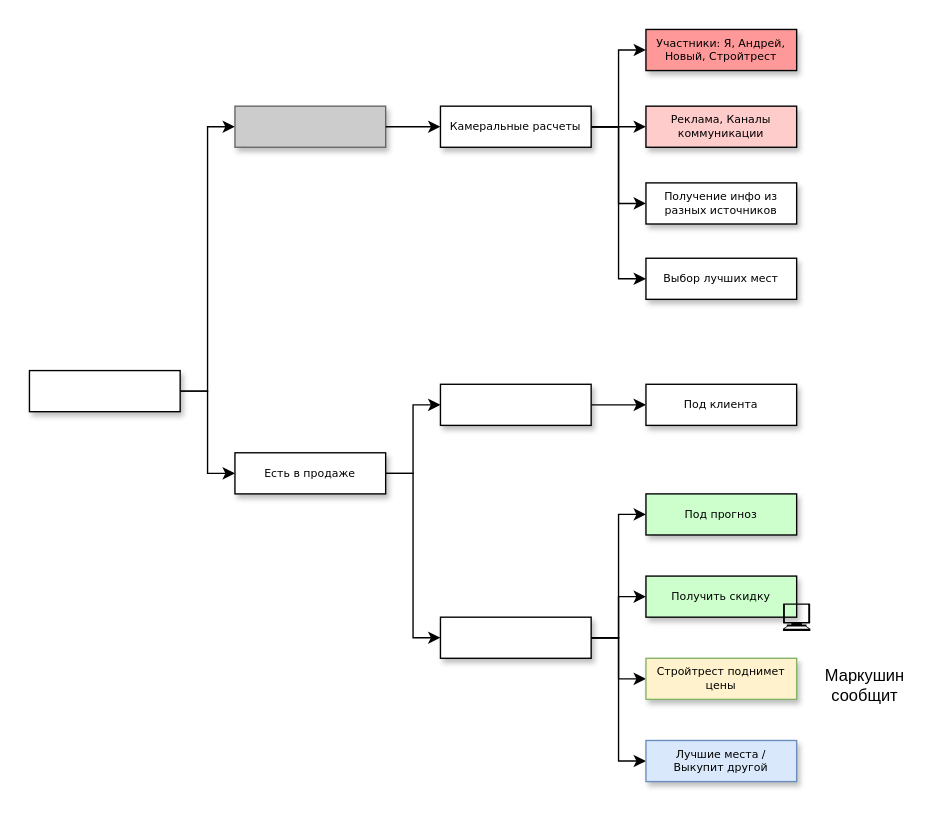
Image size: 929x815. Some labels were removed from this diagram. The shapes that lost their labels are listed below. From the top down, each one's centre as x and y in pixels, then its label:
point (311, 128): Нет в продаже
point (105, 392): Покупка паркинга
point (516, 406): Есть клиент
point (516, 639): Нет клиента
